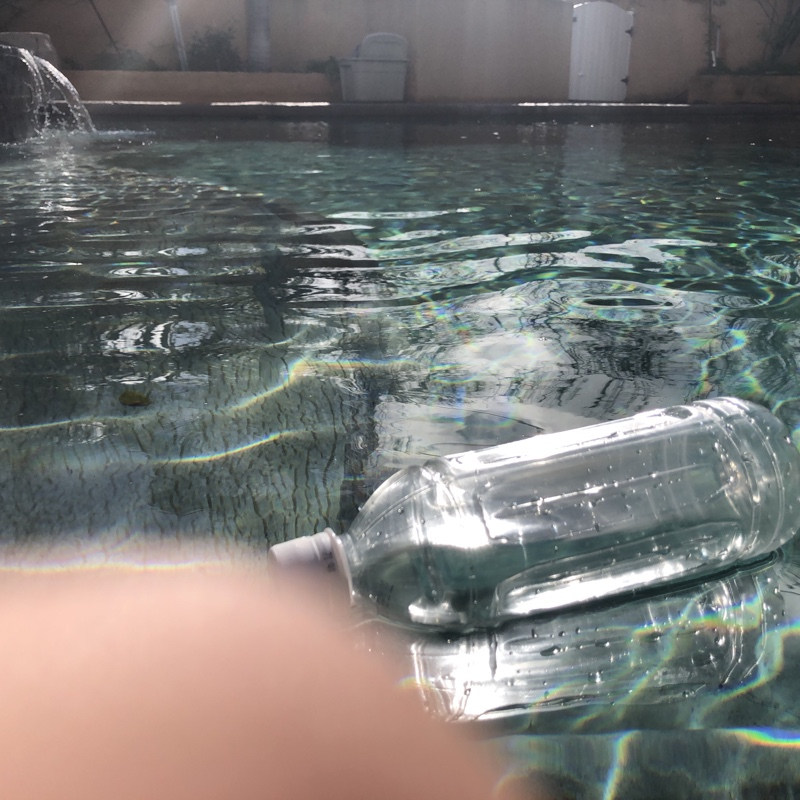Plastic Bottle: (266, 392, 800, 630)
